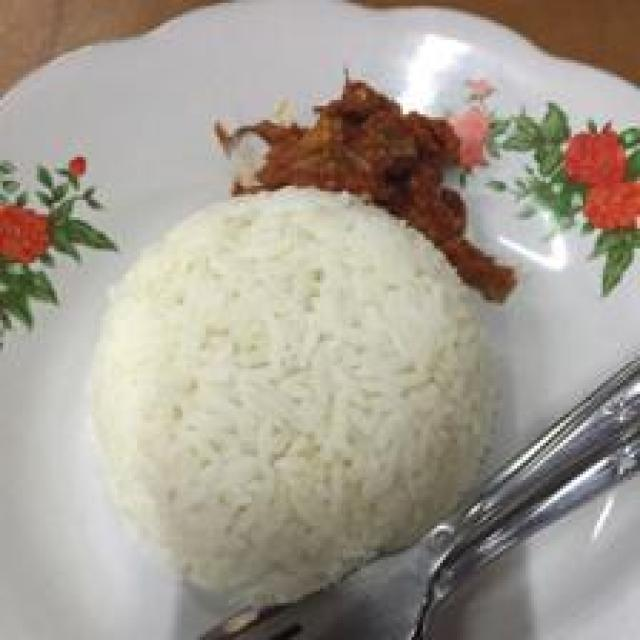Wet Waste: (92, 179, 498, 608)
